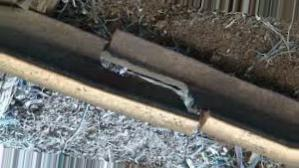tracks_fault: (80, 6, 239, 146)
